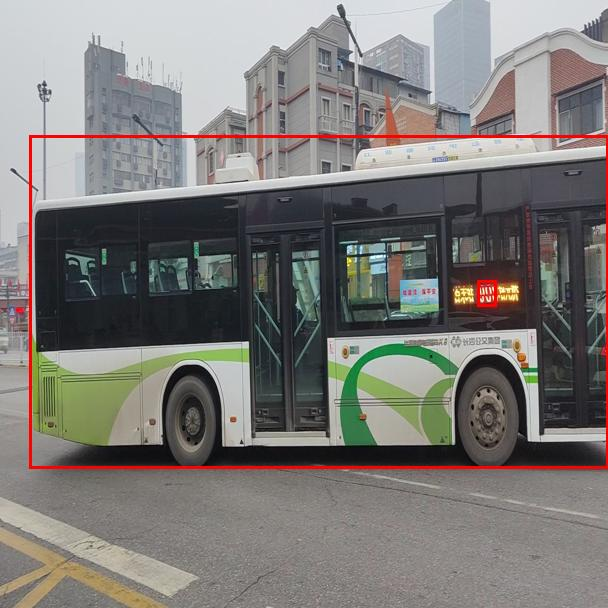bus: (29, 135, 608, 468)
screen: (477, 280, 496, 306)
